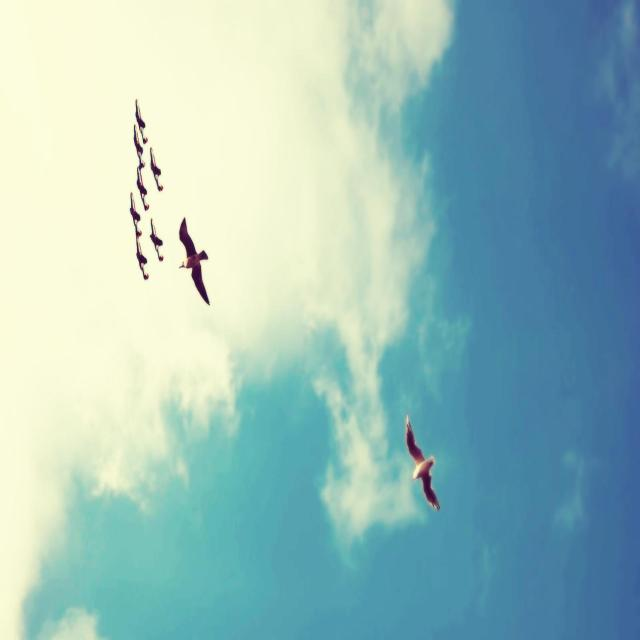airplane: (149, 146, 167, 194), (126, 190, 143, 240), (148, 216, 165, 264), (133, 98, 149, 145), (134, 168, 150, 213), (134, 240, 149, 282), (132, 127, 144, 166)
